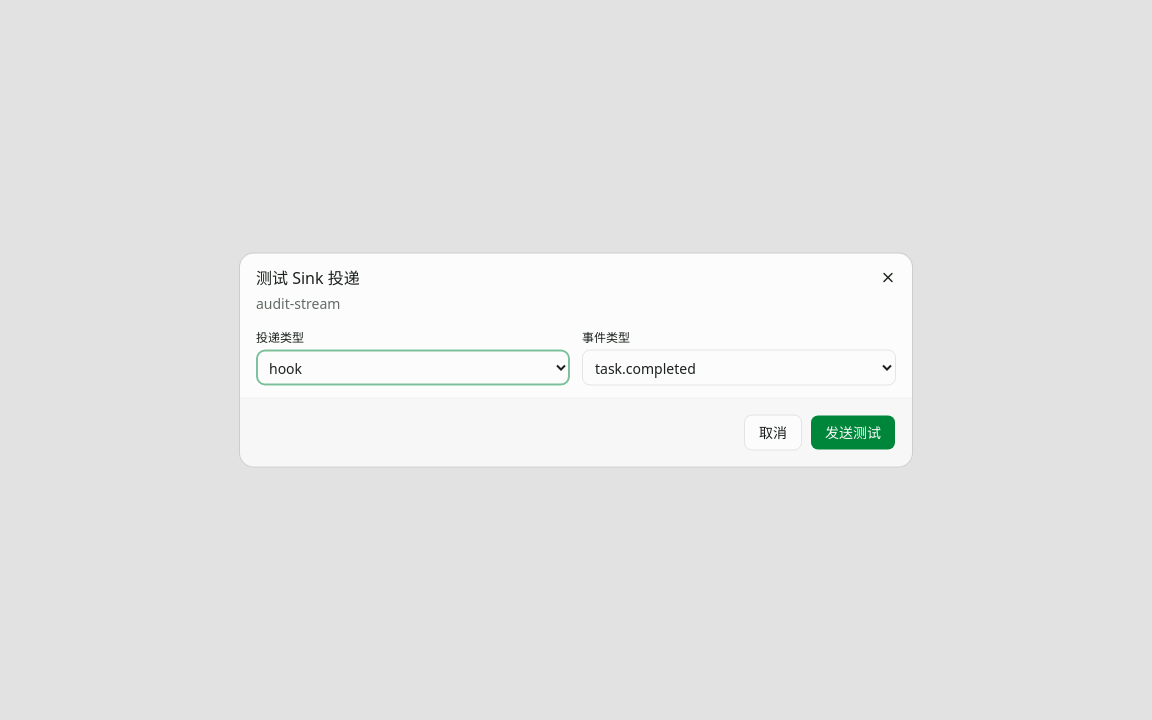
Test: SinkTestDialog › submits to sink test endpoint and renders status code
The width and height of the screenshot is (1152, 720).
Click the button "发送测试" at (853, 432), box [810,414,896,450]
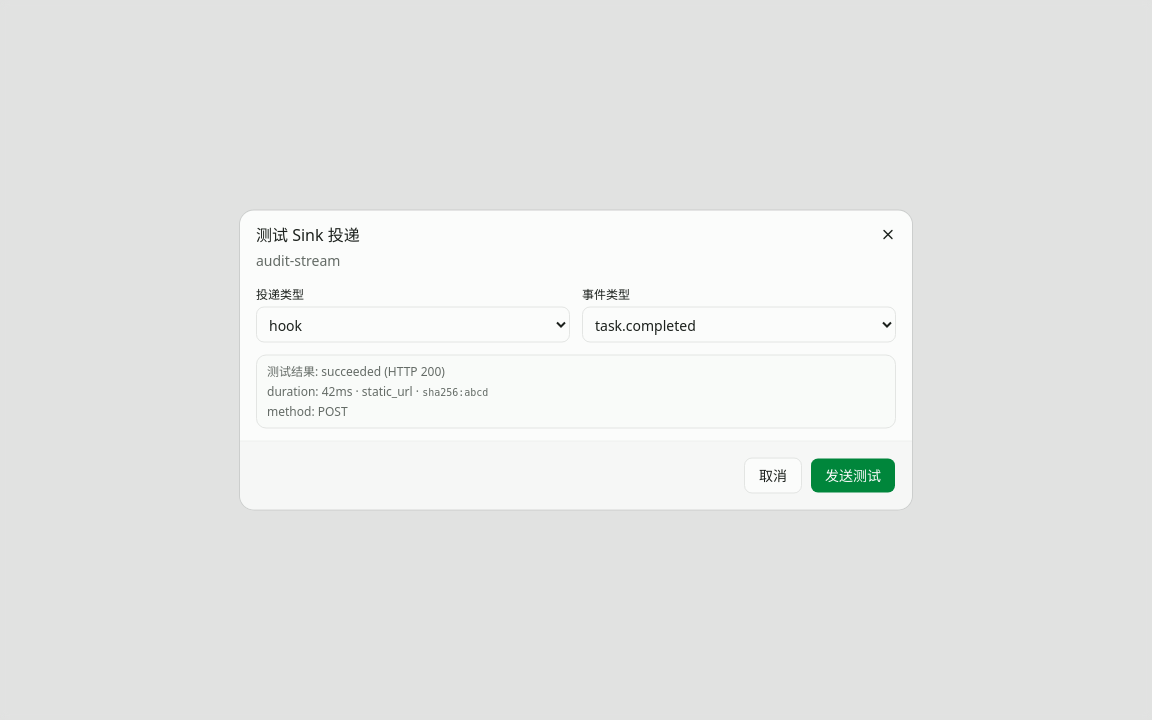
Check: the text "测试结果: succeeded (HTTP 200)" is shown, box [267,362,445,380]
